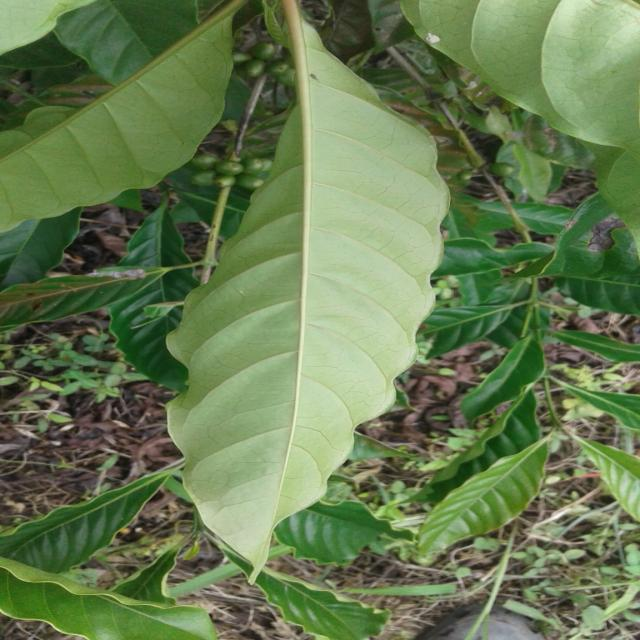Sanas: (166, 19, 450, 584)
